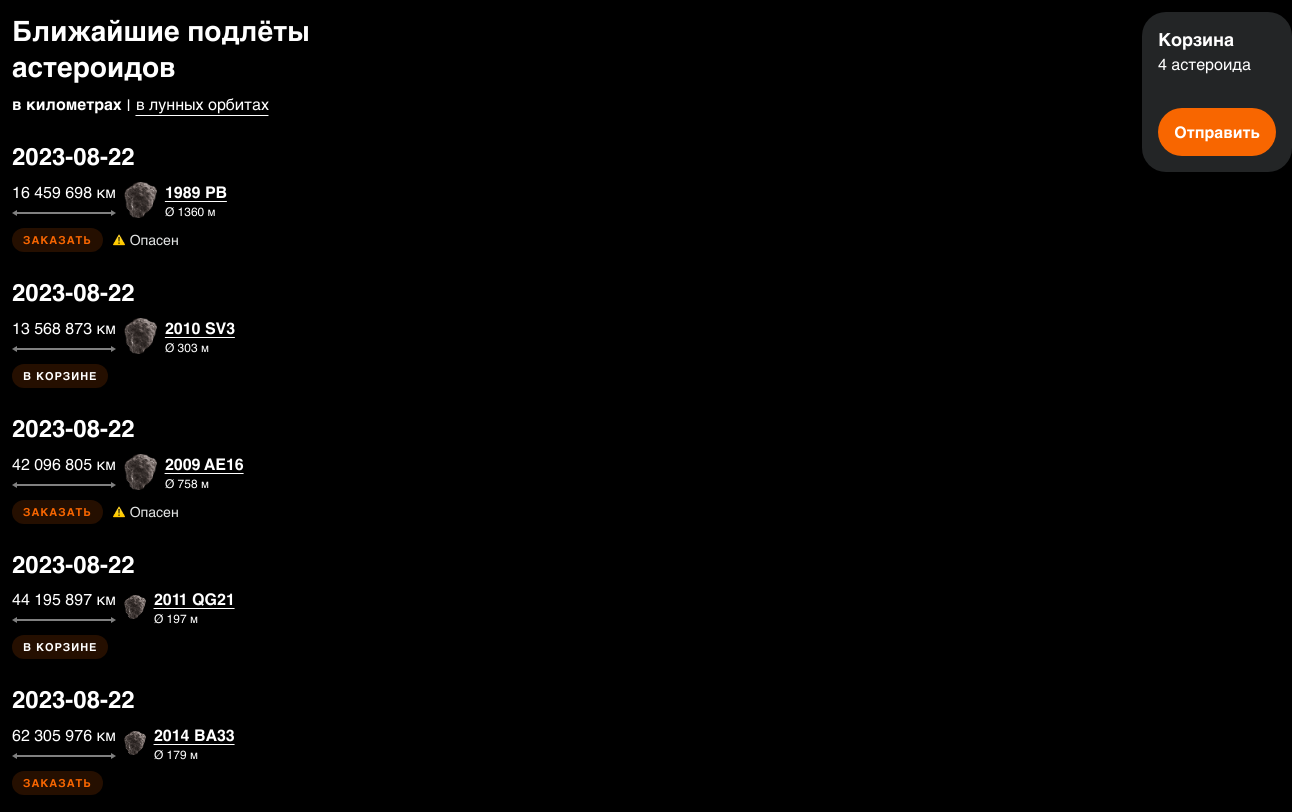
Test case: Home render › remove from cart
Click the button "В КОРЗИНЕ" below "303".
click(60, 376)  # box [12,364,108,388]
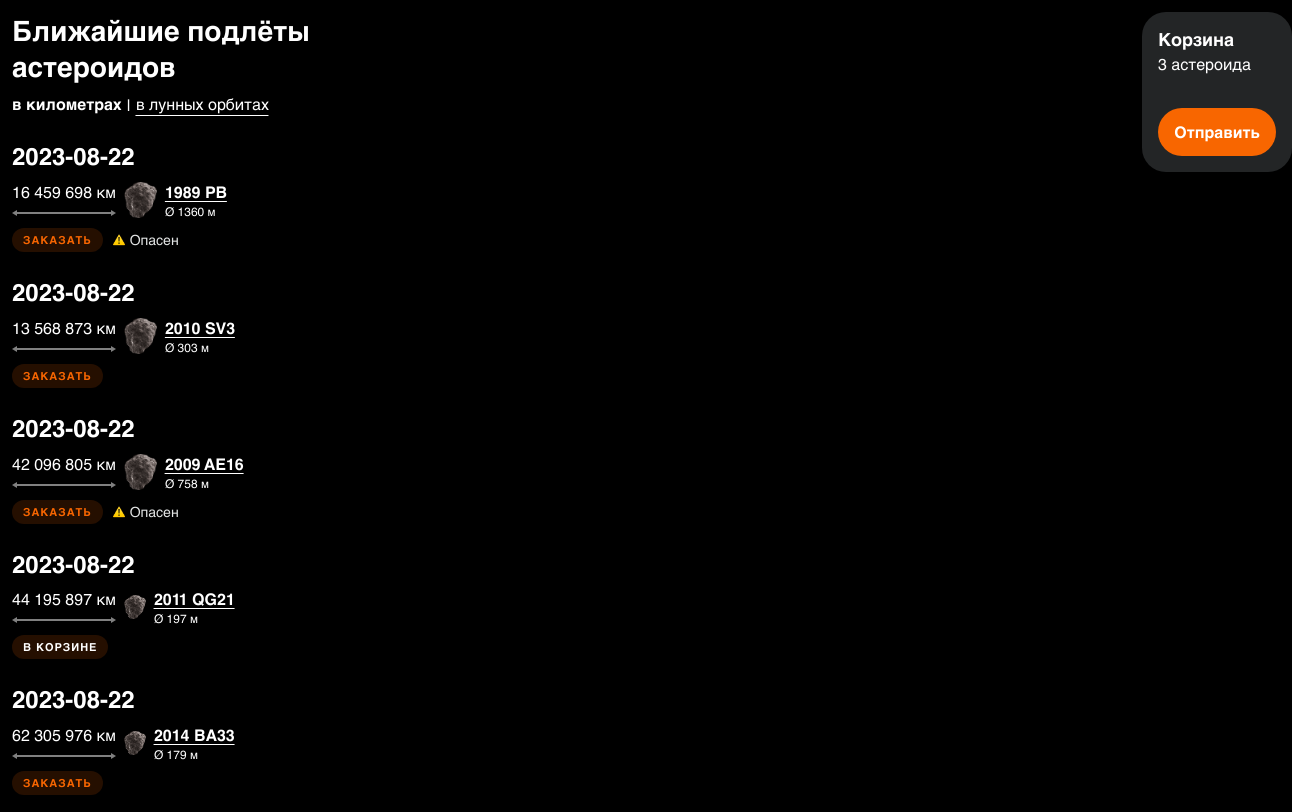
expect the text with test id "cart-value" shows "3": met, box [1158,54,1251,73]
